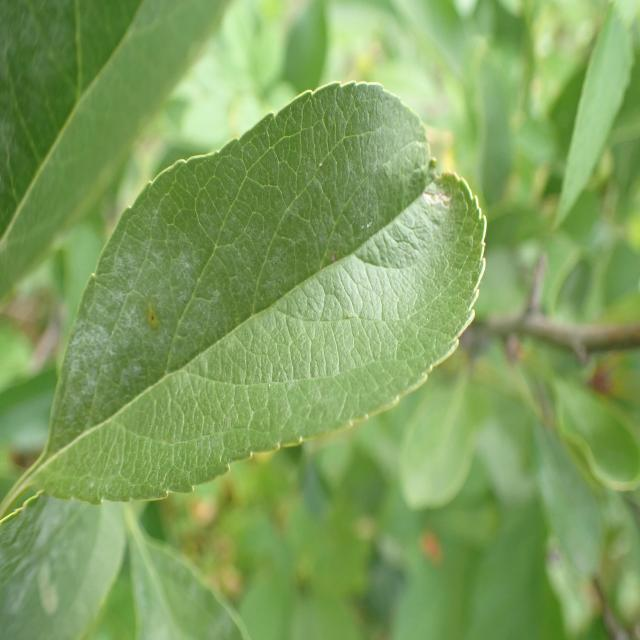Powdery_mildew: (40, 138, 470, 508)
